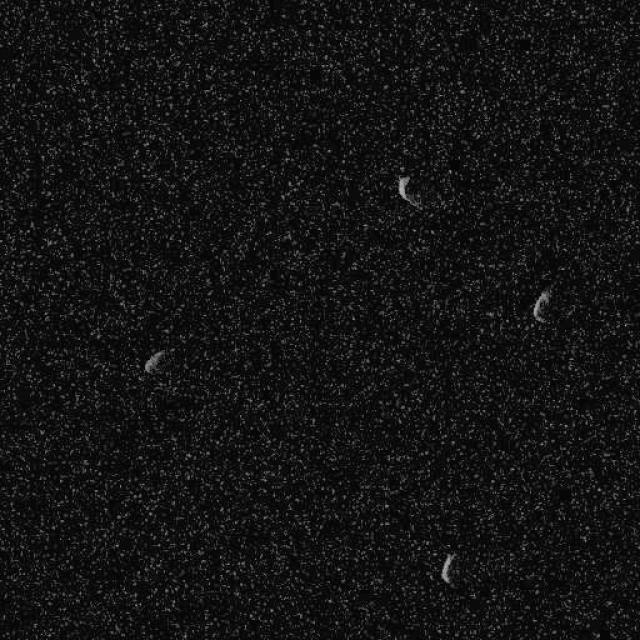D2: (395, 174, 423, 210), (142, 347, 168, 375), (532, 288, 552, 324), (440, 551, 455, 584)
